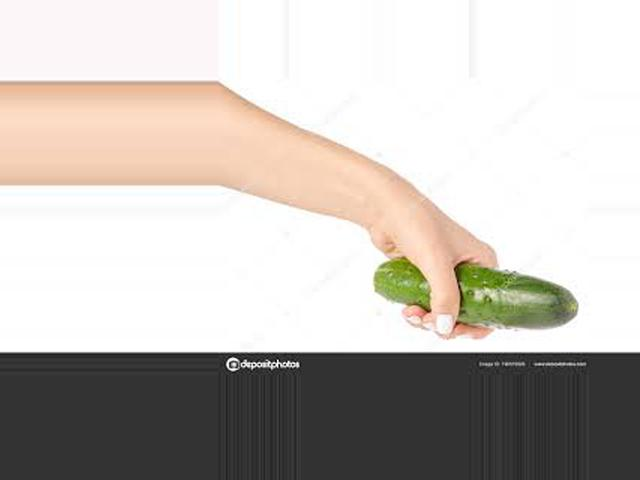cucumber: (374, 259, 580, 330)
